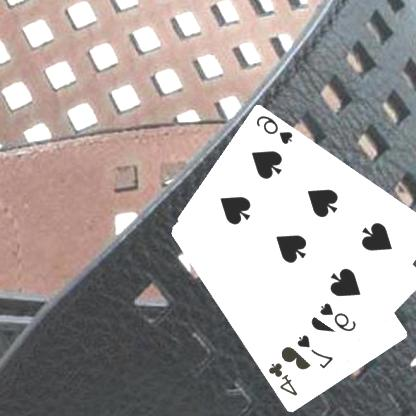4C: (267, 360, 301, 398)
6S: (318, 300, 360, 334), (255, 112, 296, 146)
7S: (296, 332, 336, 371)
